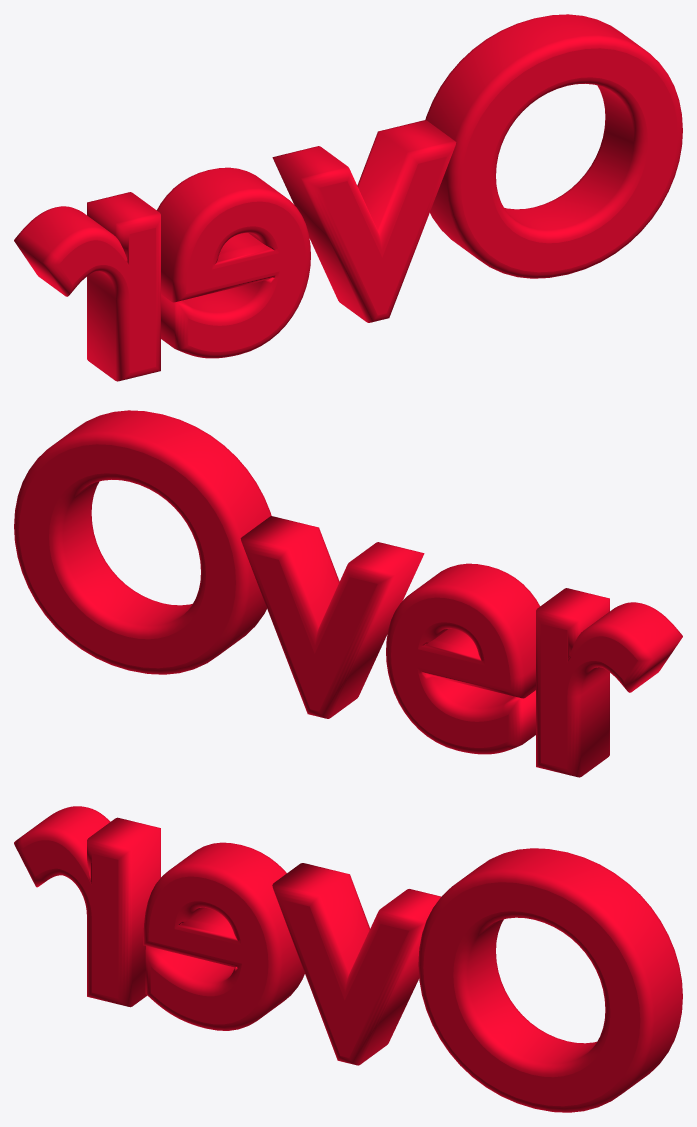
The model's file is GameOverText2.obj.
3 renders of one model, top to bottom at view 1: azimuth 30°, elevation 25°; view 2: azimuth 150°, elevation 25°; view 3: azimuth 330°, elevation 25°, orthographic.
Visible parts, largest first — view 1: テキスト; view 2: テキスト; view 3: テキスト.
Boxes of the visible parts, x1,y1,x2,y2 form: テキスト: (14,14,682,381); テキスト: (14,410,682,777); テキスト: (14,806,682,1112).
Bounding box in the file's own units: 2.16 × 0.7601 × 0.22.
1 material, 1 textured.
